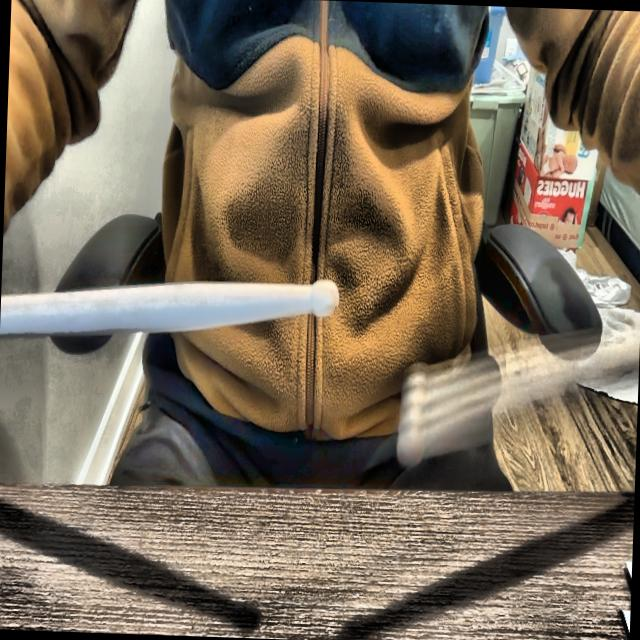Drumstick-Heads: (394, 352, 431, 468), (307, 264, 342, 321)
